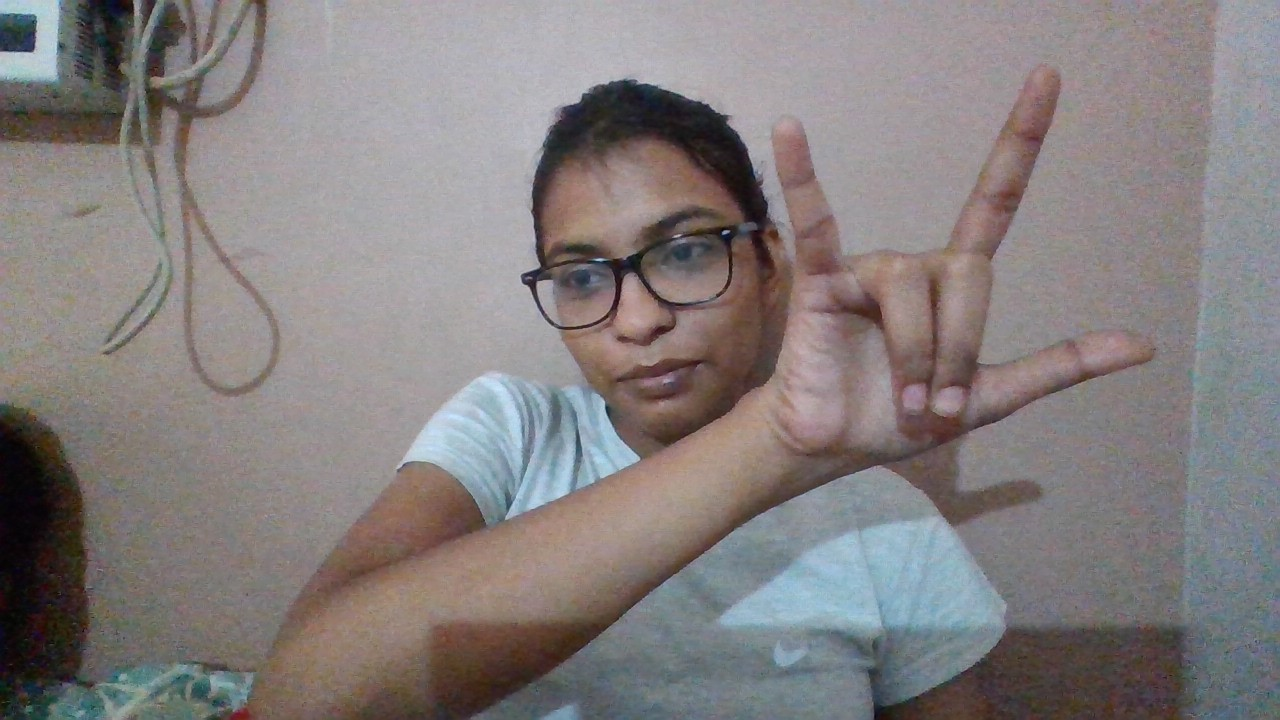I Love You: (731, 54, 1190, 489)
